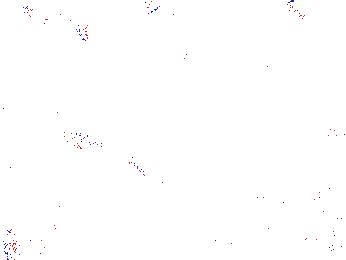X-ray fish: (174, 47, 195, 84)
glassfish: (65, 127, 163, 198)
red belly glassfish: (287, 2, 314, 23)
redtail glassfish: (21, 5, 88, 43), (262, 57, 338, 85), (141, 1, 245, 19)
